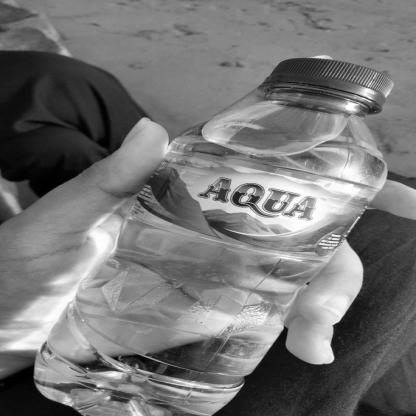plastic_bottles: (32, 60, 400, 416)
